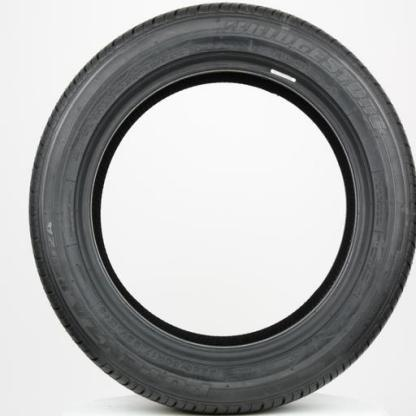Tire: (27, 2, 415, 412)
